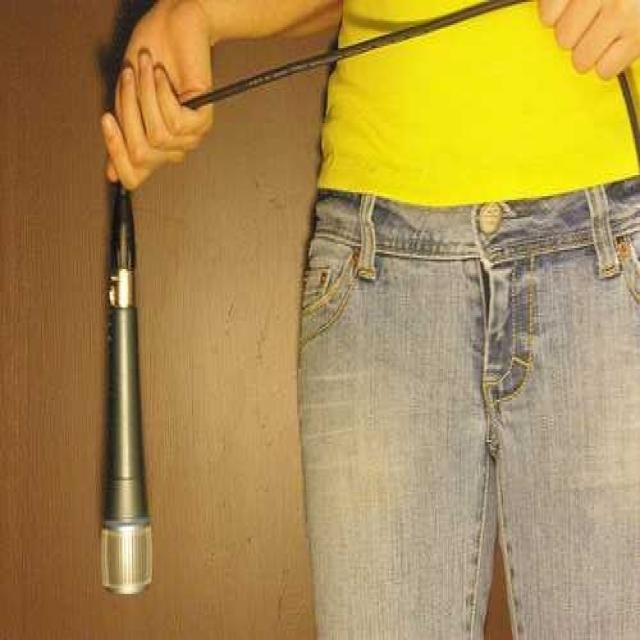microphone: (97, 176, 156, 602)
